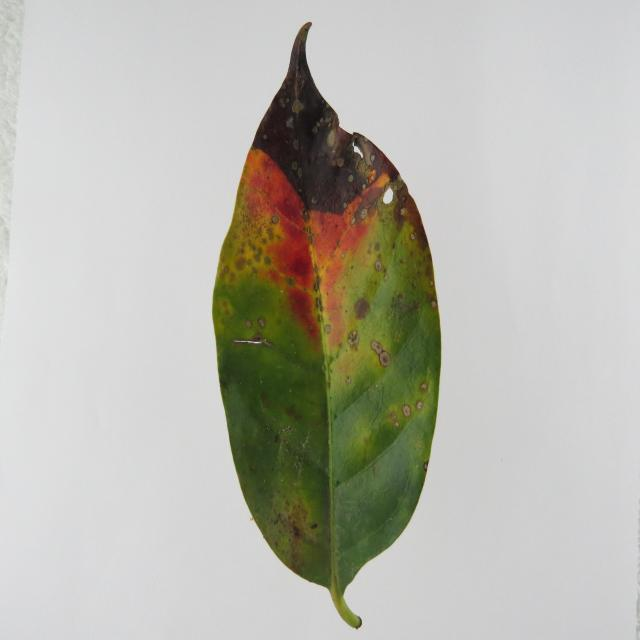DeficienciaNutricional-Fosforo: (212, 23, 441, 627)
